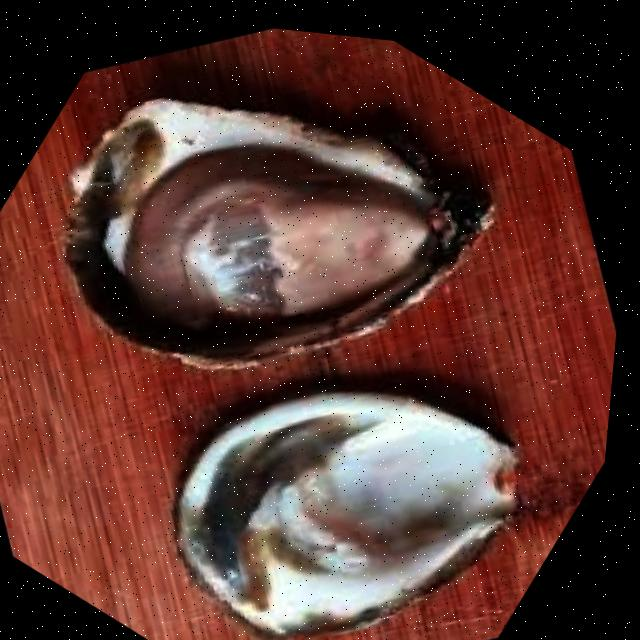Oyster-Open: (67, 98, 487, 368), (177, 392, 516, 637)
